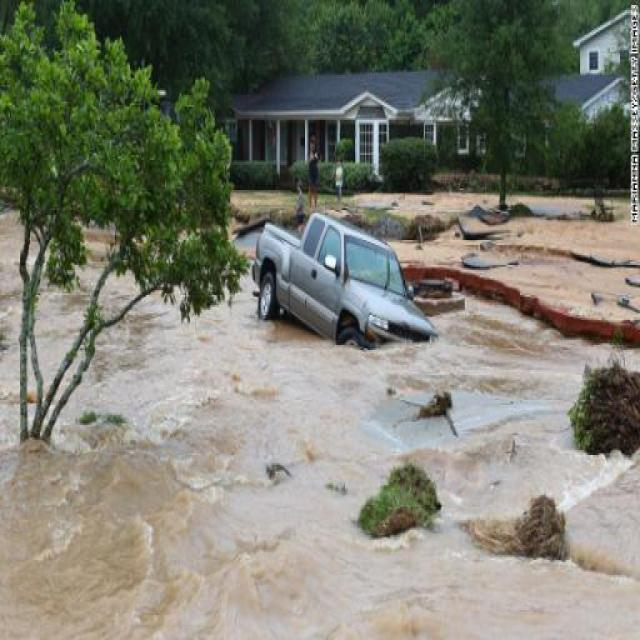flood: (0, 212, 640, 640), (34, 230, 105, 400), (473, 252, 640, 321), (505, 200, 640, 260), (393, 228, 481, 270), (351, 192, 500, 216), (509, 195, 594, 210), (231, 190, 296, 208), (51, 364, 74, 410), (24, 366, 37, 430), (607, 198, 629, 210), (40, 416, 48, 436), (491, 251, 499, 256)
house: (240, 68, 455, 174), (571, 5, 640, 120)
